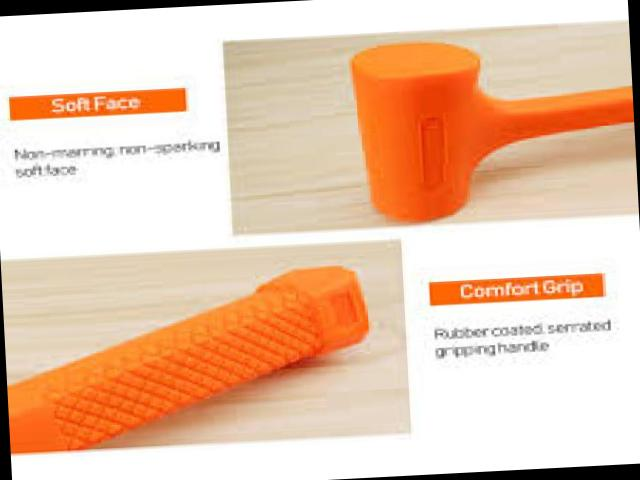hammer: (349, 29, 639, 225)
